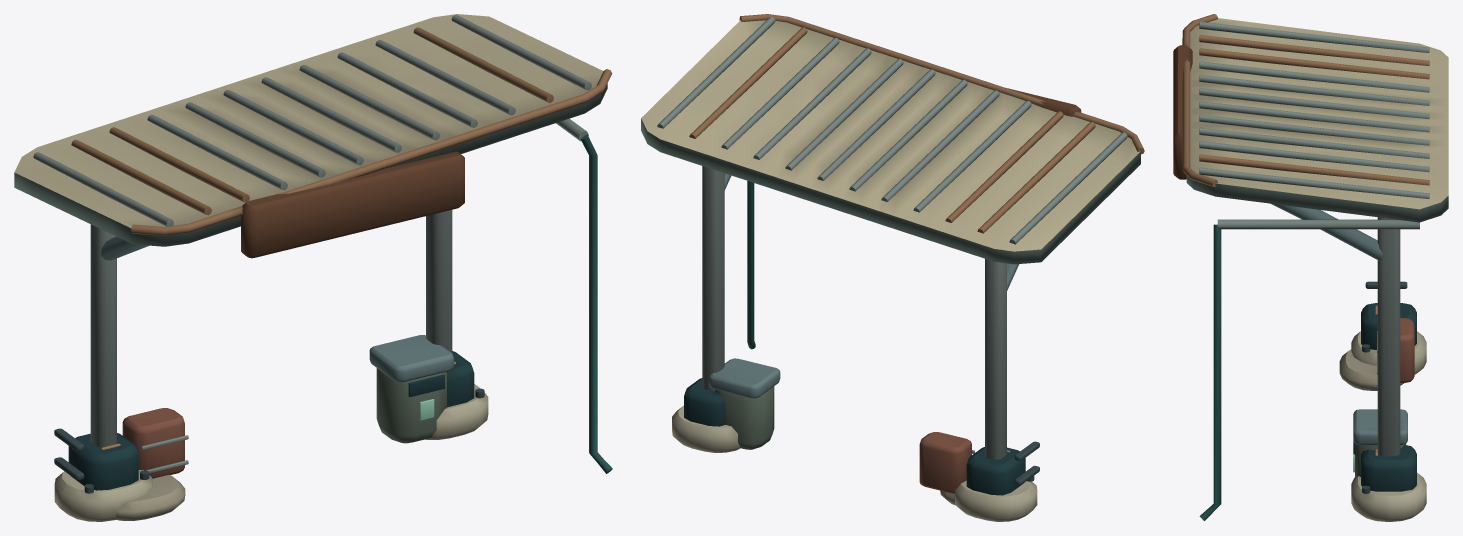
Rendered from canopy_worn.glb.
The picture shows the model from 3 angles, left to right: view 1: azimuth 30°, elevation 25°; view 2: azimuth 150°, elevation 25°; view 3: azimuth 270°, elevation 25°; orthographic projection. The views are drawn at different scales.
Visible parts, largest first — view 1: Canopy_worn; view 2: Canopy_worn; view 3: Canopy_worn.
Part boxes in pixels (bbox=[...]): Canopy_worn: bbox=[14, 14, 612, 521]; Canopy_worn: bbox=[641, 14, 1144, 521]; Canopy_worn: bbox=[1173, 14, 1448, 521].
Bounding box in the file's own units: 4.03 × 3.29 × 2.31.
